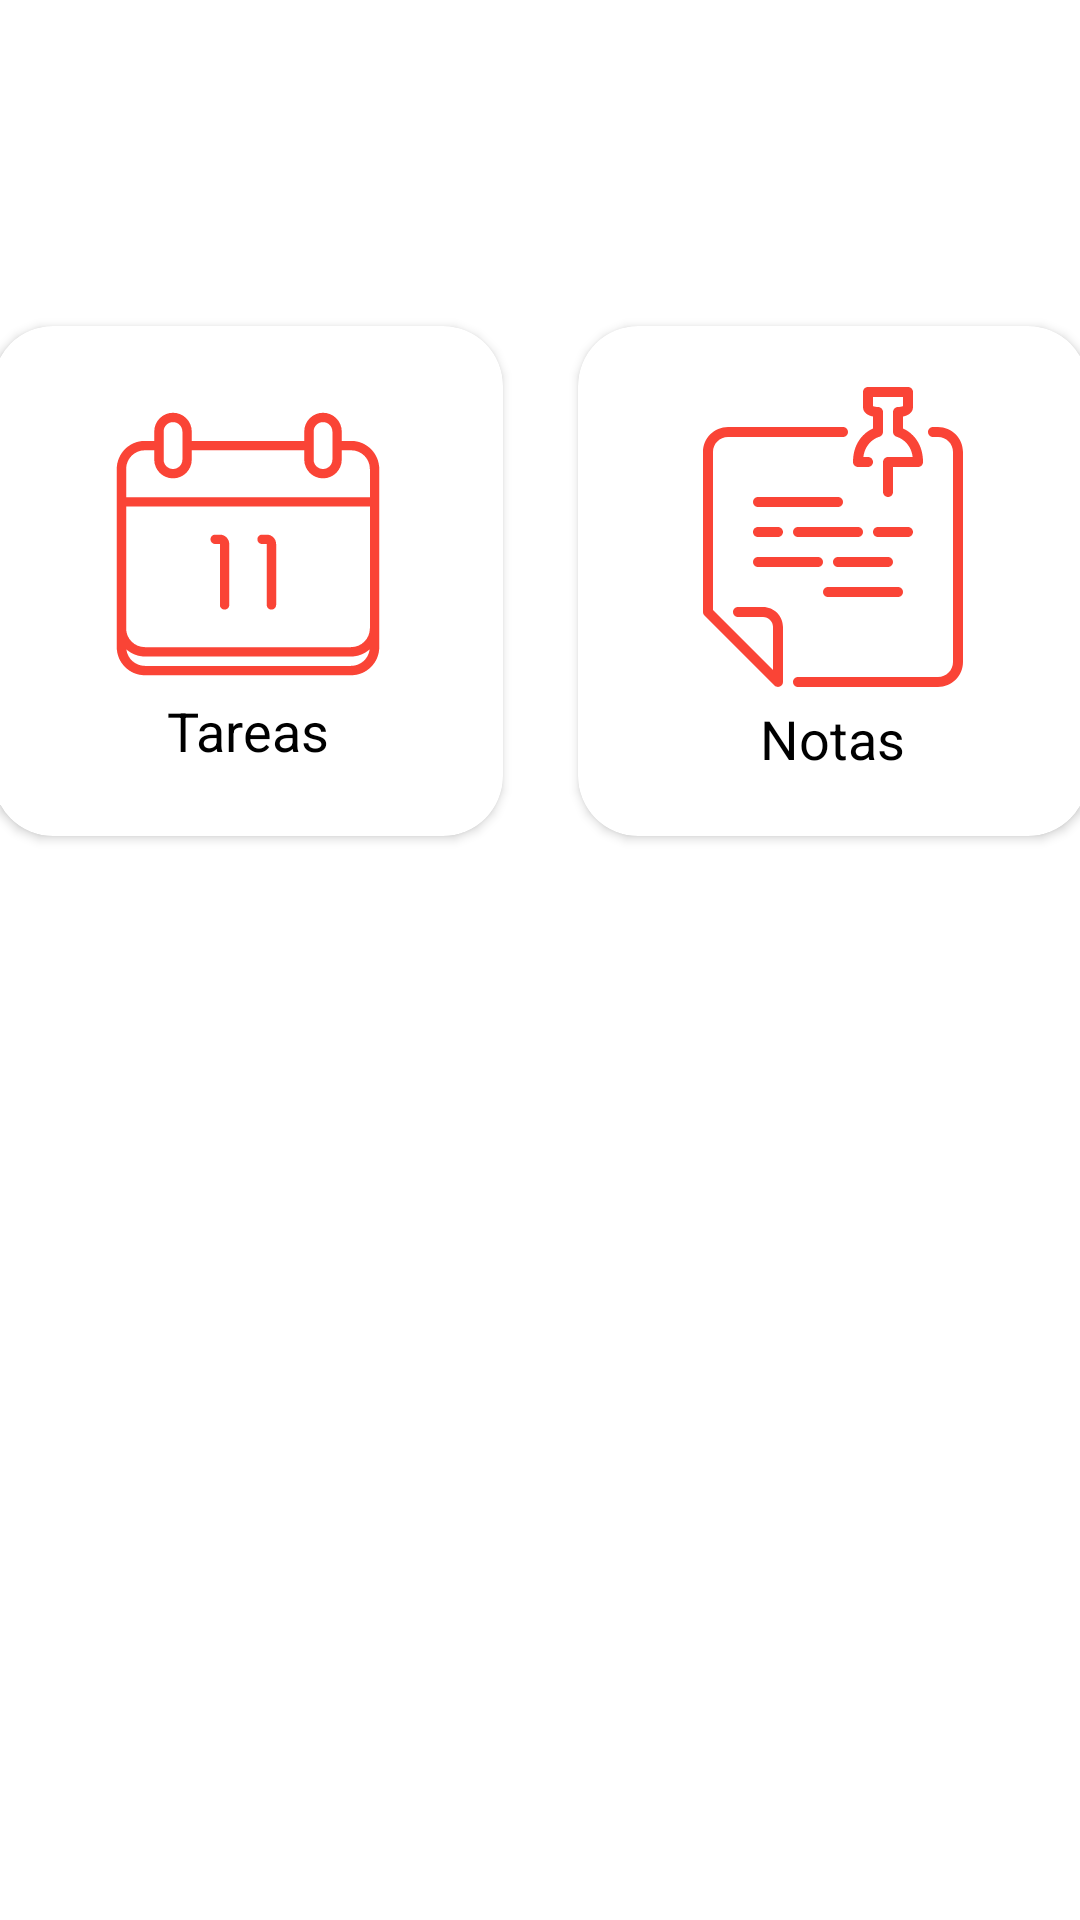

Screen size 1080×1920. Icon name, then its box in pixels as (x1, y1, x2, y2):
schedule: (116, 412, 380, 676)
